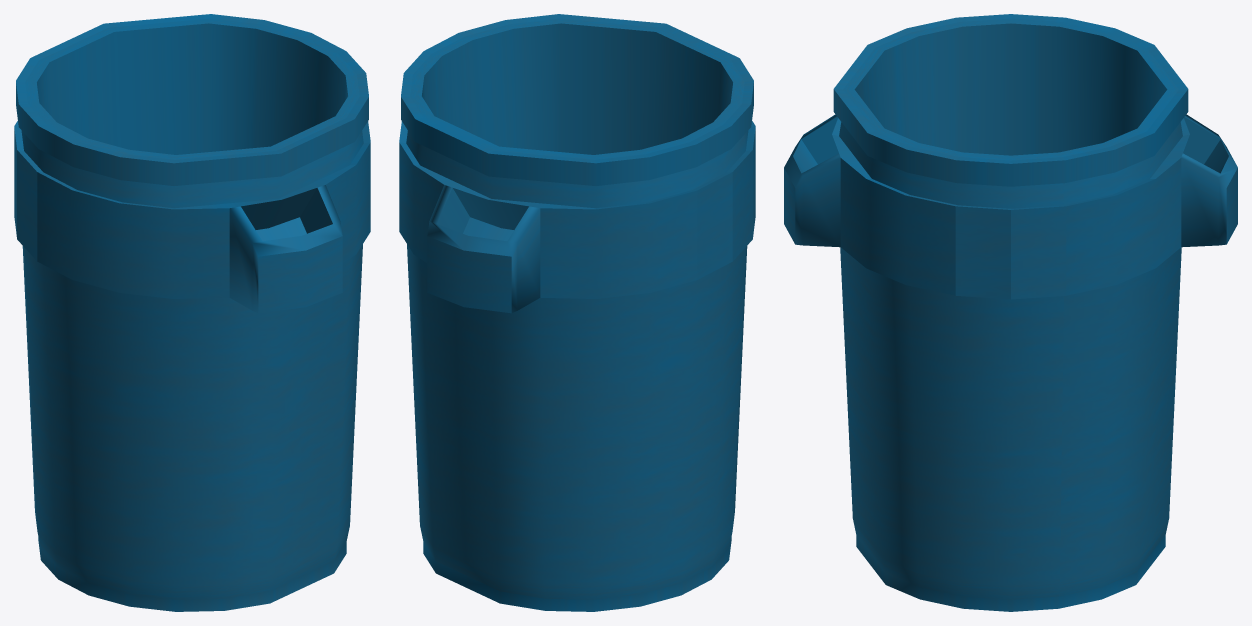
File: garbage.fbx
3 renders of one model, left to right at view 1: azimuth 30°, elevation 25°; view 2: azimuth 150°, elevation 25°; view 3: azimuth 270°, elevation 25°, orthographic.
Parts seen in each view (by area): view 1: pCylinder1; view 2: pCylinder1; view 3: pCylinder1.
Part boxes in pixels (x1,y1,x2,y2): pCylinder1: [14, 14, 370, 611]; pCylinder1: [399, 14, 755, 611]; pCylinder1: [784, 14, 1237, 611].
Size of the model in its own units: 2.26 by 3.19 by 2.87.
Materials: 1 (1 with a texture image).
